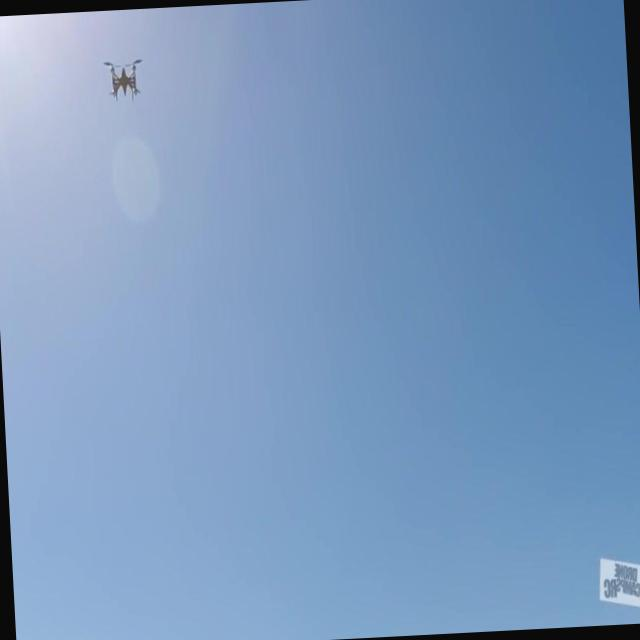drone: (103, 55, 145, 106)
